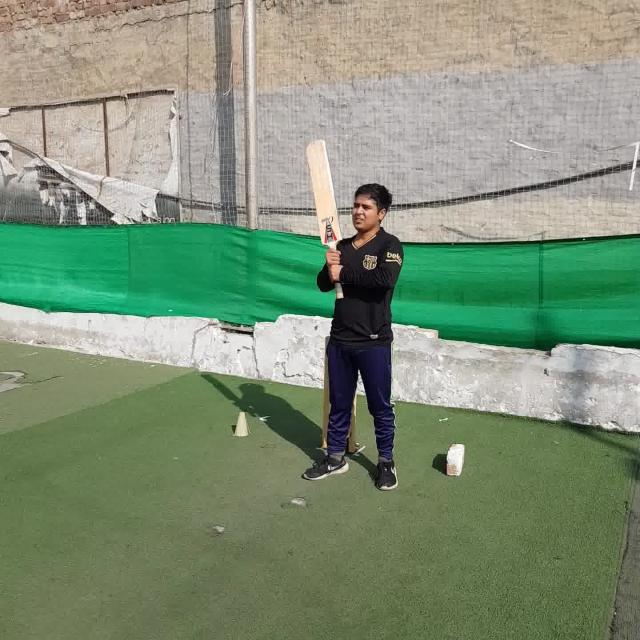bat: (305, 139, 345, 299)
